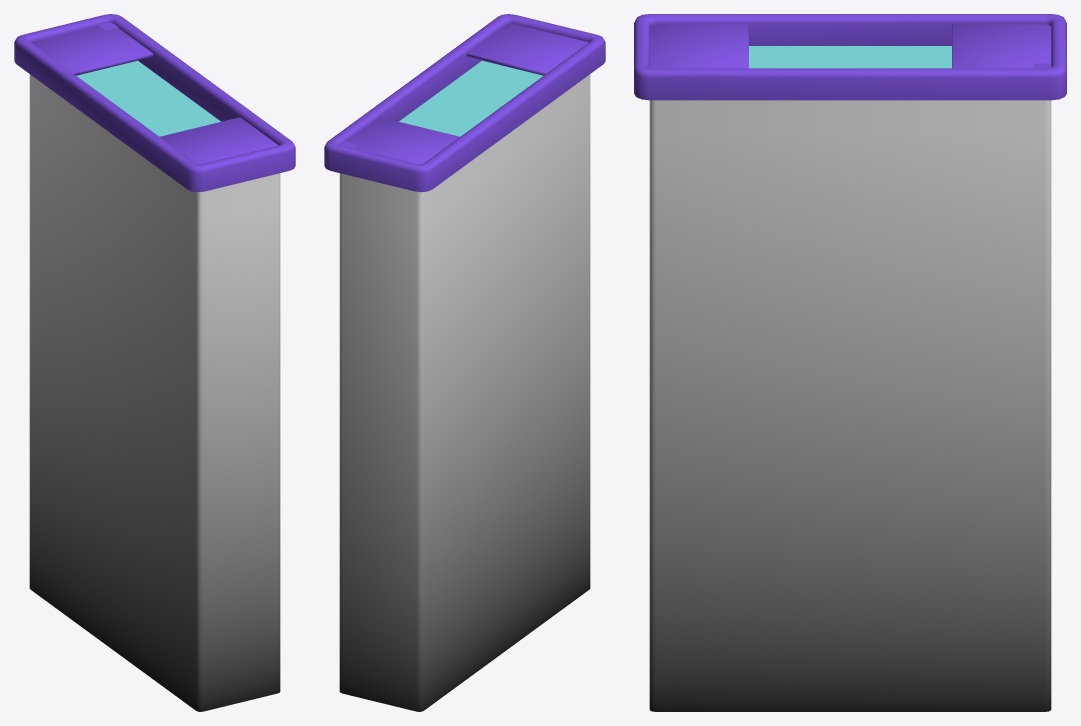
The picture shows the model from 3 angles, left to right: view 1: azimuth 30°, elevation 25°; view 2: azimuth 150°, elevation 25°; view 3: azimuth 270°, elevation 25°; orthographic projection. The views are drawn at different scales.
Visible parts, largest first — view 1: 1x3, 1x3_Cap, 1x3_Stecil; view 2: 1x3, 1x3_Cap, 1x3_Stecil; view 3: 1x3, 1x3_Cap, 1x3_Stecil.
Part boxes in pixels (x1,y1,x2,y2): 1x3: [14, 14, 295, 711]; 1x3_Cap: [31, 26, 278, 164]; 1x3_Stecil: [76, 60, 220, 136]; 1x3: [324, 14, 605, 711]; 1x3_Cap: [347, 23, 588, 164]; 1x3_Stecil: [399, 60, 543, 136]; 1x3: [634, 14, 1066, 711]; 1x3_Cap: [649, 24, 1051, 68]; 1x3_Stecil: [749, 46, 951, 68].
Size of the model in its own units: 1 by 4.94 by 3.
Materials: 3 (1 with a texture image).
